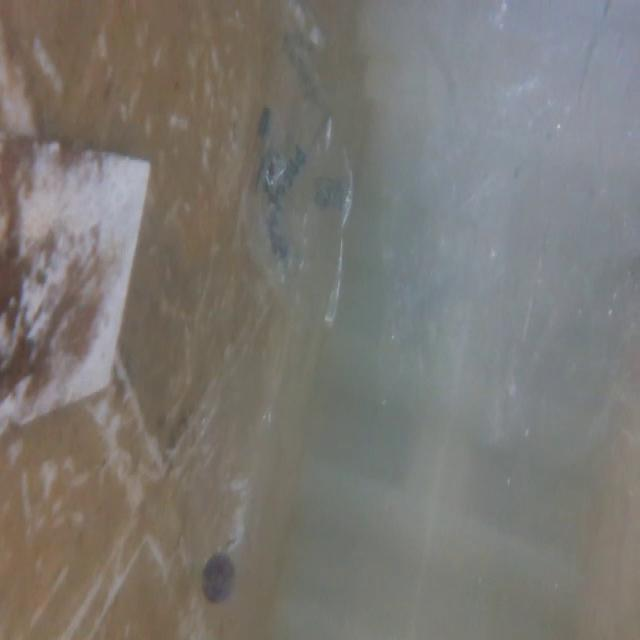metal: (0, 142, 159, 458)
plastic bags: (383, 0, 640, 487), (234, 8, 364, 341)
plastic bottle: (188, 363, 274, 604)
